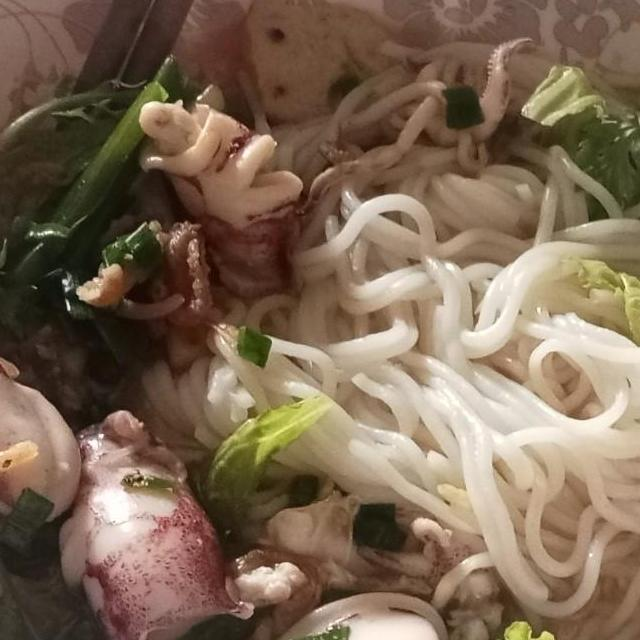bun: (280, 128, 640, 639), (502, 525, 640, 640)
muc: (44, 402, 259, 640), (292, 24, 542, 220), (124, 90, 312, 302), (331, 506, 517, 640), (0, 276, 89, 546), (234, 592, 447, 640)
